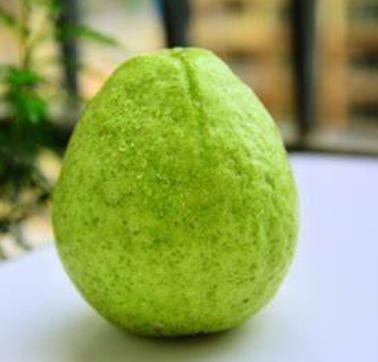guava_A: (52, 47, 298, 337)
